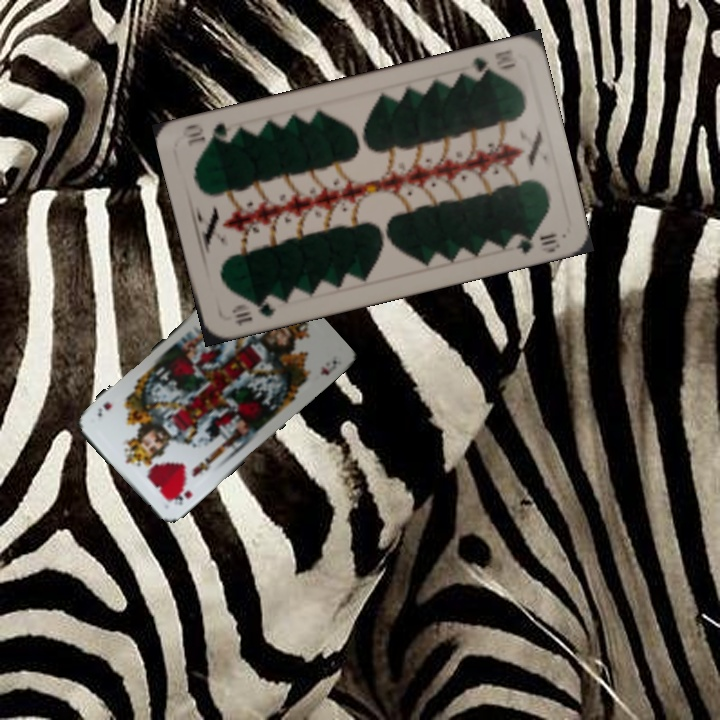G10: (227, 295, 278, 330), (463, 53, 519, 81)
HK: (165, 485, 194, 508)
